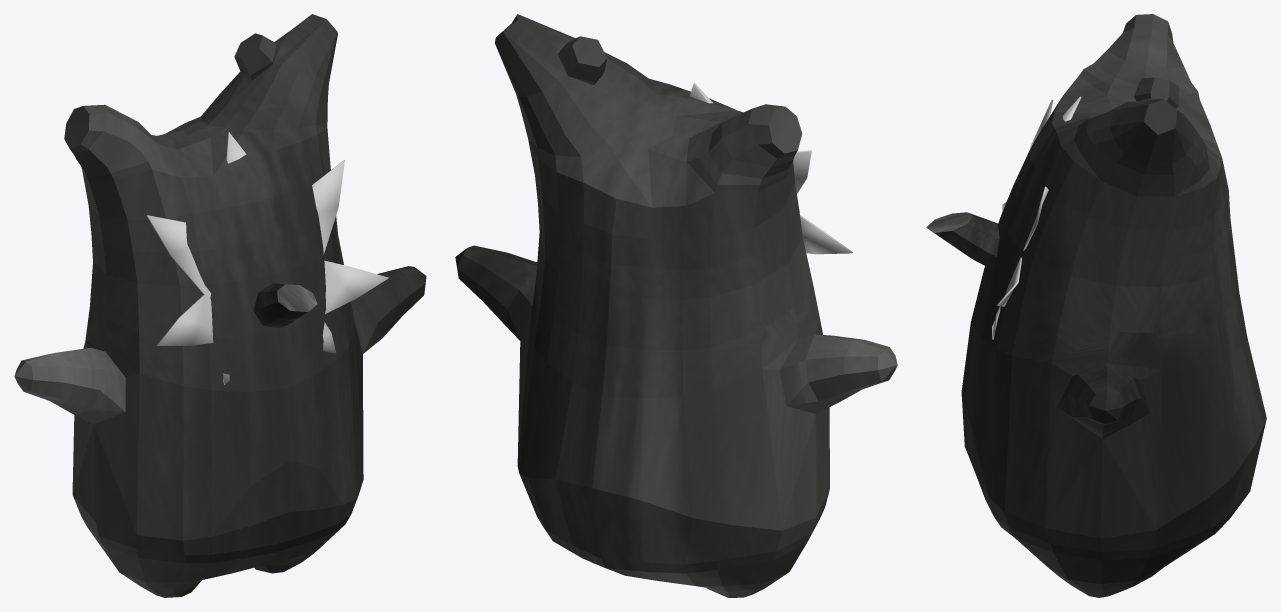
The model's file is frame_0032.obj.
3 views of the same model, side by side, from view 1: azimuth 30°, elevation 25°; view 2: azimuth 150°, elevation 25°; view 3: azimuth 270°, elevation 25° (orthographic). The views are drawn at different scales.
Visible parts, largest first — view 1: korok, leaf.003_柱体.013, nose.003_柱体.011; view 2: korok, leaf.003_柱体.013; view 3: korok, nose.003_柱体.011, leaf.003_柱体.013.
Part boxes in pixels (x1,y1,x2,y2): korok: (14, 14, 426, 597); leaf.003_柱体.013: (146, 132, 388, 384); nose.003_柱体.011: (253, 283, 317, 327); korok: (455, 14, 897, 597); leaf.003_柱体.013: (690, 82, 852, 254); korok: (961, 14, 1266, 597); nose.003_柱体.011: (926, 212, 999, 268); leaf.003_柱体.013: (992, 96, 1081, 339).
Bounding box in the file's own units: 1.86 × 2.23 × 1.3.
